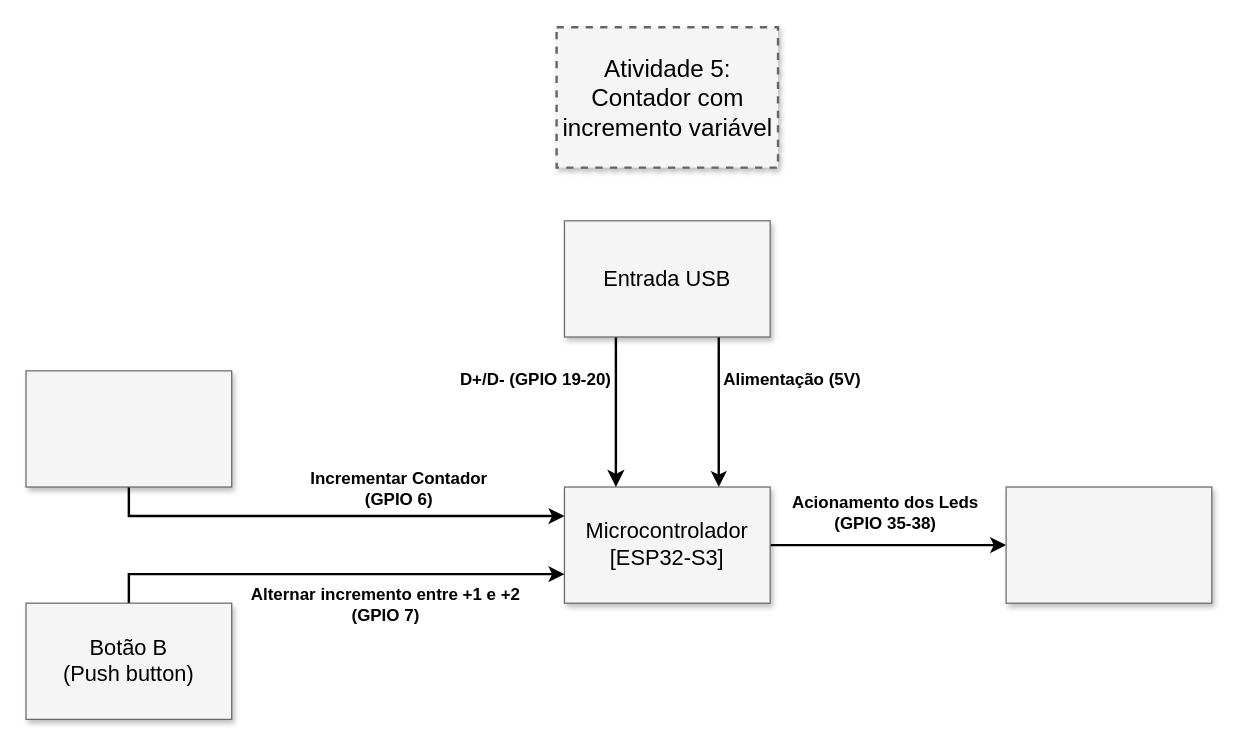
Image size: 1240x749. Some labels were removed from this diagram. Each missing label, with the centre of its shape:
"Botão A (Push button)" goes at point (129, 430).
"Leds 1 ao 4" goes at point (1109, 546).
